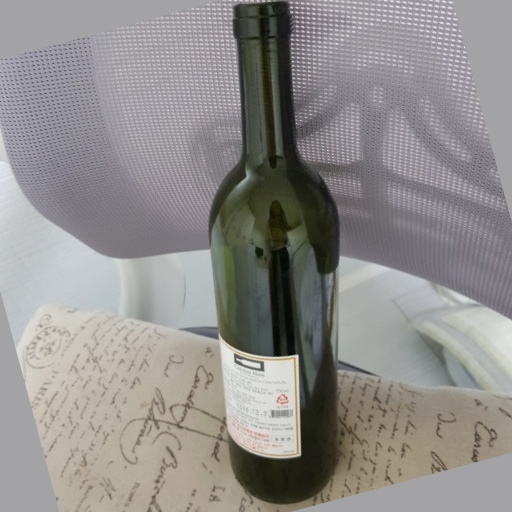Glass_2: (203, 1, 345, 507)
